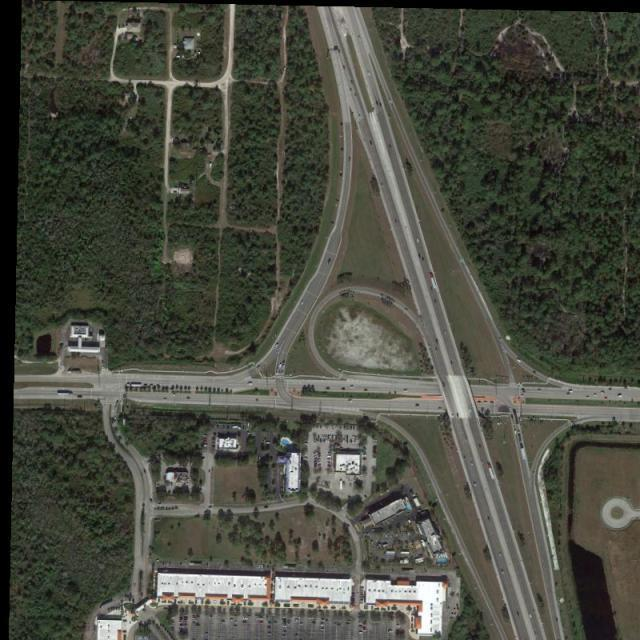vehicle: (486, 463, 496, 480), (429, 274, 438, 290), (57, 391, 73, 396), (67, 369, 81, 374), (126, 382, 141, 386)
